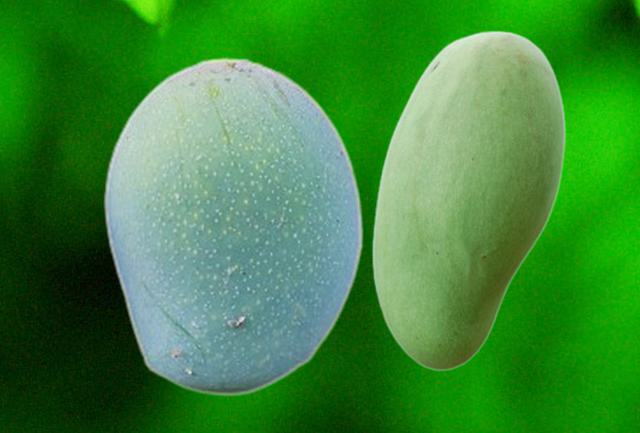green_mango: (102, 56, 363, 396), (371, 30, 564, 370)
